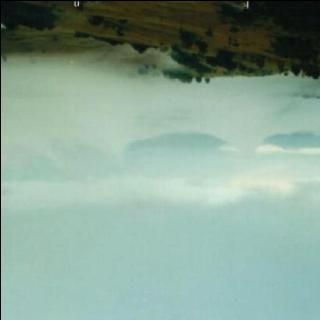Nimbostratus: (0, 82, 305, 320)
